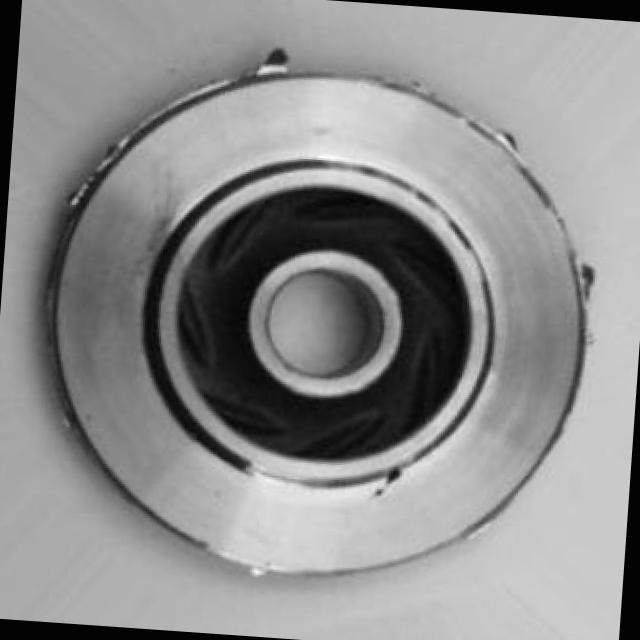Defect: (250, 36, 292, 86)
